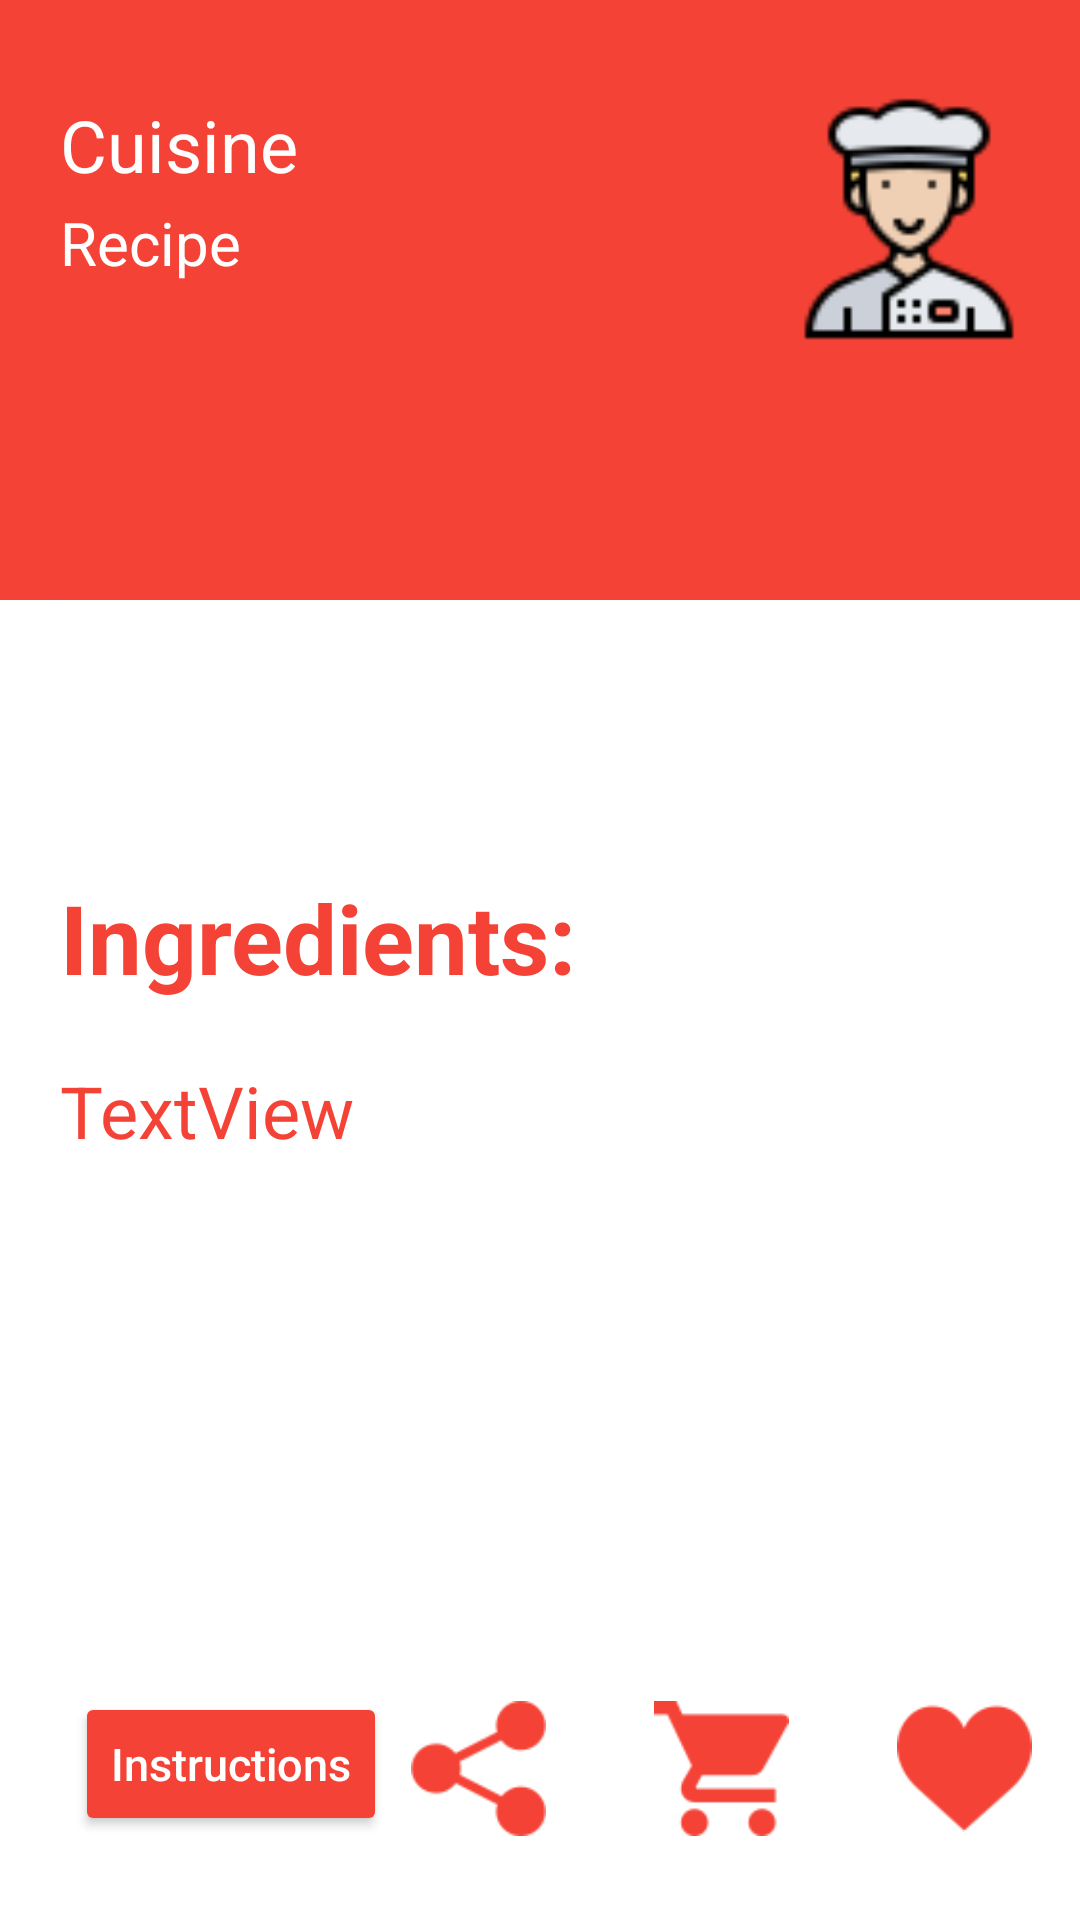

Named icons in this screenshot (1080px×1920px) and their bounding boxes, (x1, y1, x2, y2):
cart: (654, 1701, 789, 1836)
chef: (804, 98, 1014, 340)
like: (897, 1705, 1032, 1831)
share: (411, 1701, 546, 1836)
